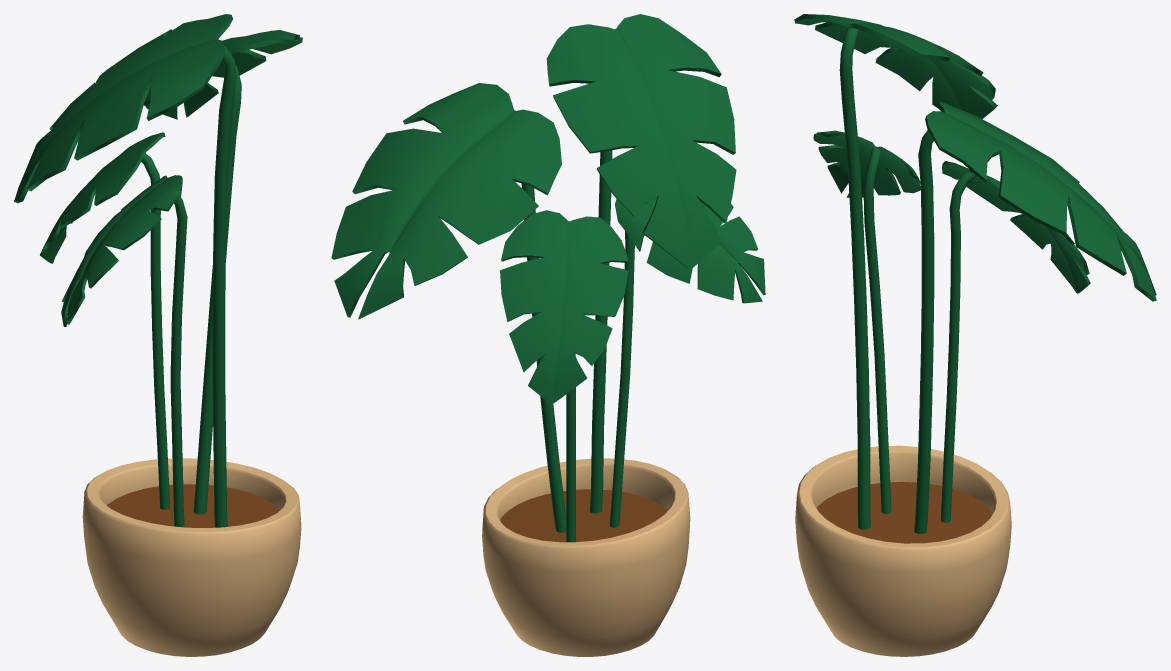
Rendered from Plant.fbx.
3 renders of one model, left to right at view 1: azimuth 30°, elevation 25°; view 2: azimuth 150°, elevation 25°; view 3: azimuth 270°, elevation 25°, orthographic. The views are drawn at different scales.
Visible parts, largest first — view 1: Plant; view 2: Plant; view 3: Plant.
Part boxes in pixels (x1,y1,x2,y2): Plant: (14, 14, 302, 656); Plant: (331, 14, 765, 656); Plant: (794, 14, 1156, 656).
Bounding box in the file's own units: 0.7326 × 1.33 × 0.7225.
